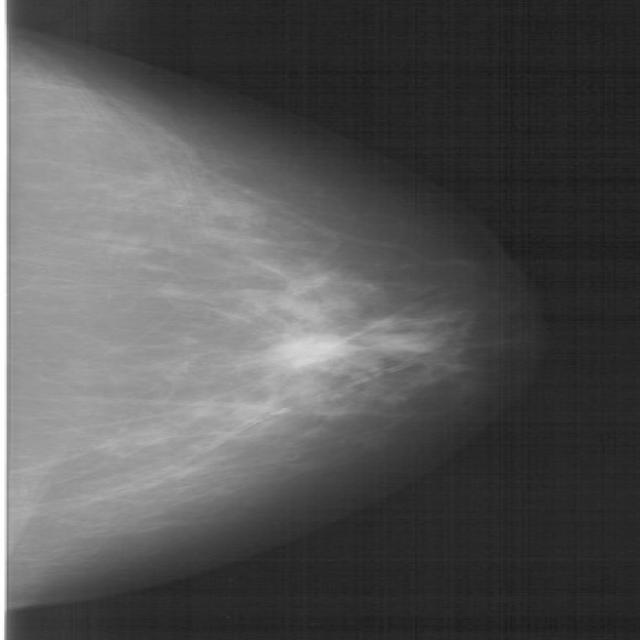tumour: (274, 333, 351, 365)
